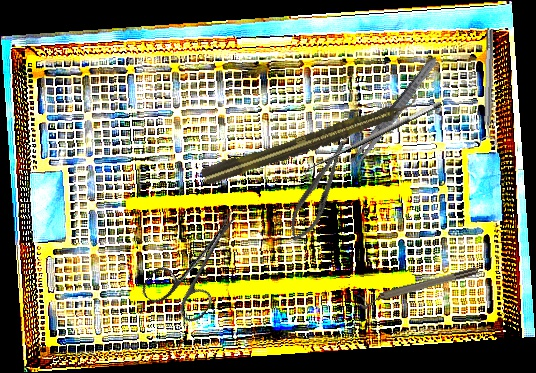Dressing Forceps: (344, 53, 442, 175)
Fixation Ring: (355, 265, 481, 311), (477, 28, 501, 147)
Handpiece: (198, 92, 424, 189)
Hook Surgical: (301, 98, 448, 184)
Iris Scissors: (138, 193, 261, 330)
Needle Holder: (281, 135, 357, 247)
